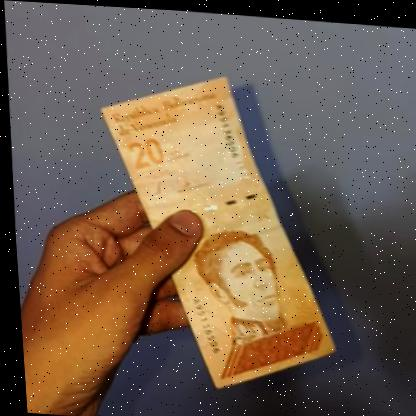twenty-front-vef: (91, 65, 337, 394)
